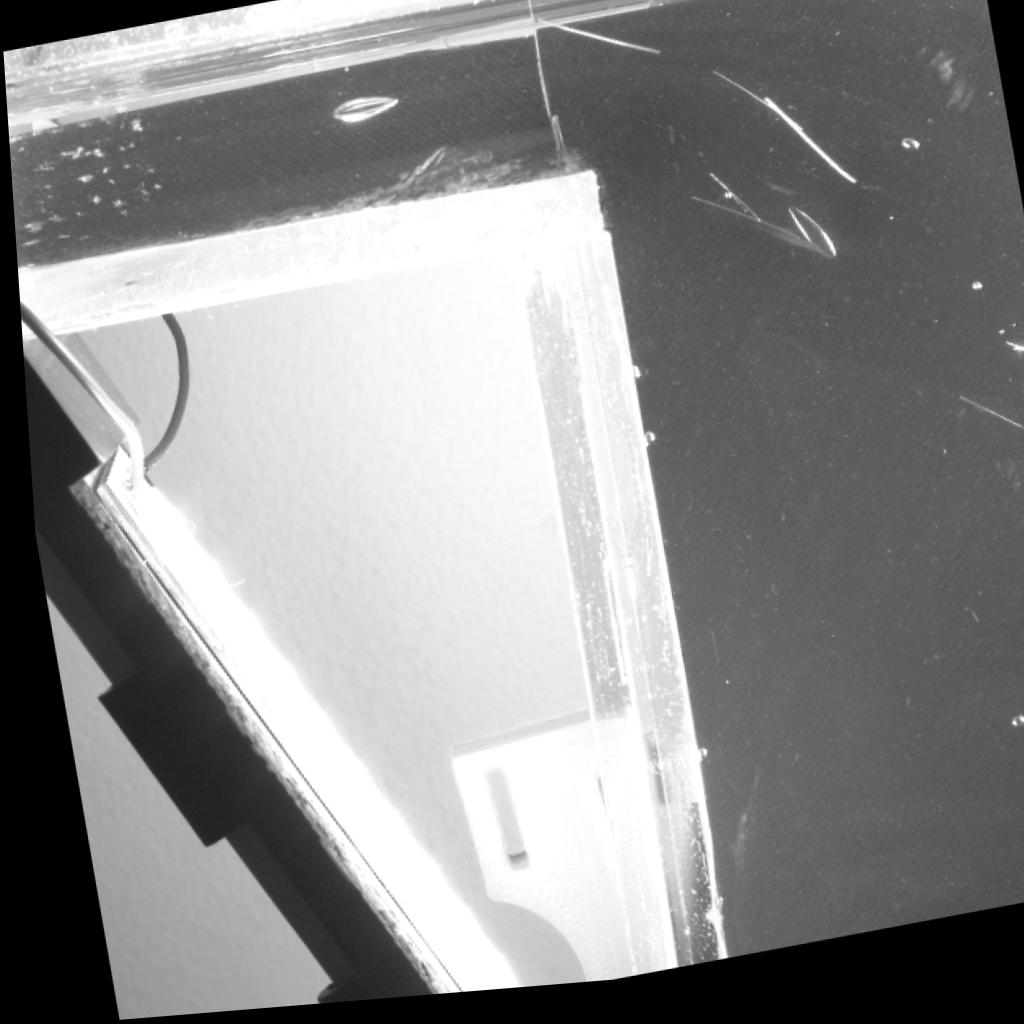Fiber: (757, 101, 857, 204), (702, 77, 801, 143), (535, 21, 664, 68), (683, 203, 800, 254), (950, 405, 1024, 454), (702, 179, 760, 237), (993, 347, 1024, 374)
